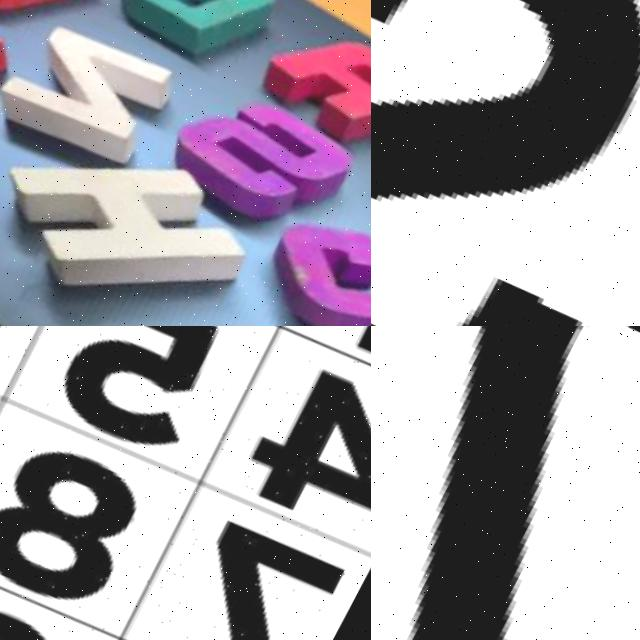1: (371, 326, 640, 640)
4: (230, 356, 371, 573)
5: (40, 326, 238, 480)
7: (160, 513, 357, 640)
8: (0, 424, 162, 634)
A: (261, 11, 371, 173)
D: (92, 0, 293, 100)
G: (238, 176, 371, 326)
H: (0, 97, 276, 326)
S: (371, 0, 640, 326), (155, 68, 367, 264)
Z: (0, 0, 186, 197)
